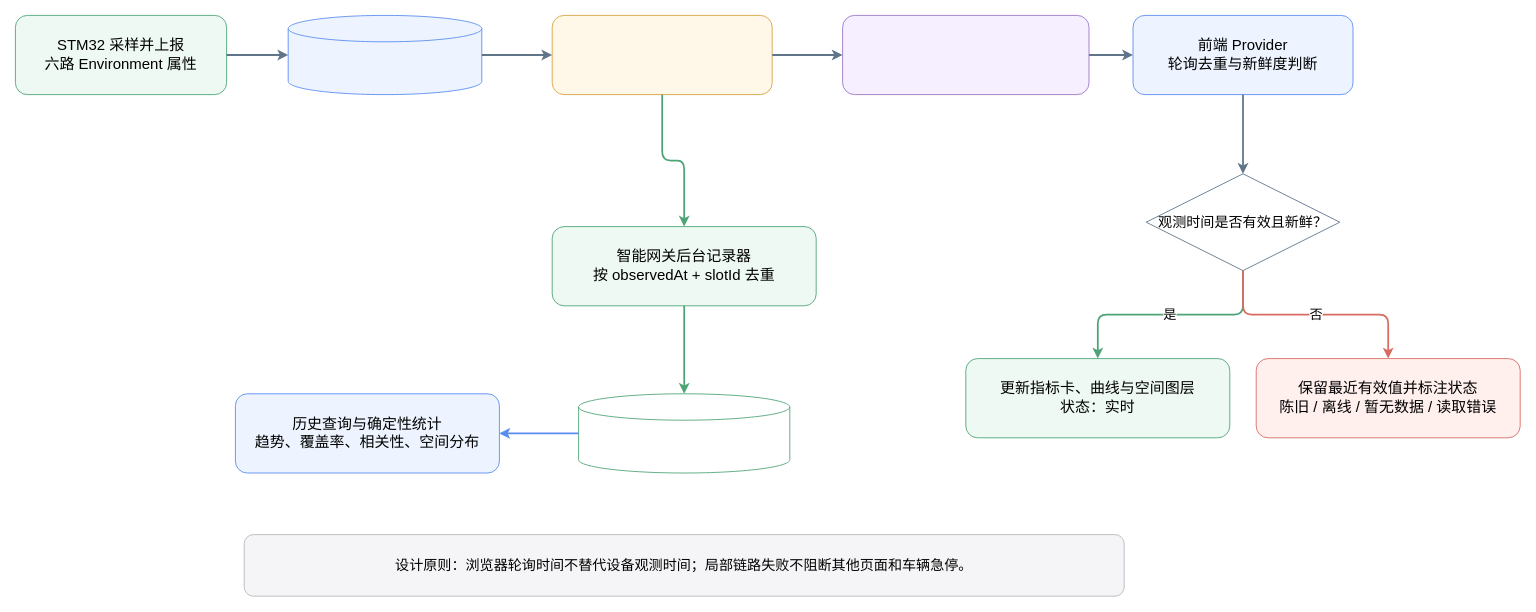
This 1536x612 diagram has some shape labels left out. The shapes that lost their labels are listed below. From the top down, each one's centre as x and y in pixels, then its label:
the point at 384,55: 华为云 IoTDA 更新设备影子
the point at 661,55: 服务端 Provider 鉴权、读取、字段映射
the point at 965,55: Snapshot 契约 slots + vehicle + partialErrors
the point at 684,433: SQLite WAL 历史、质量事件、告警工单
